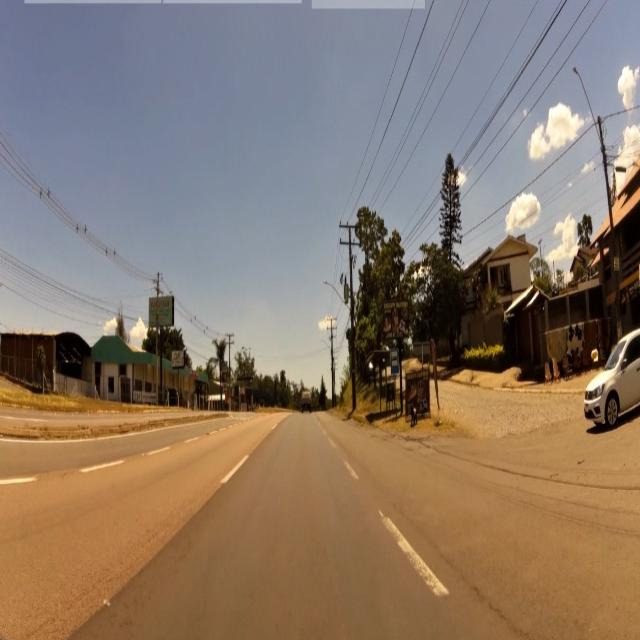S-14: (390, 348, 399, 376)
